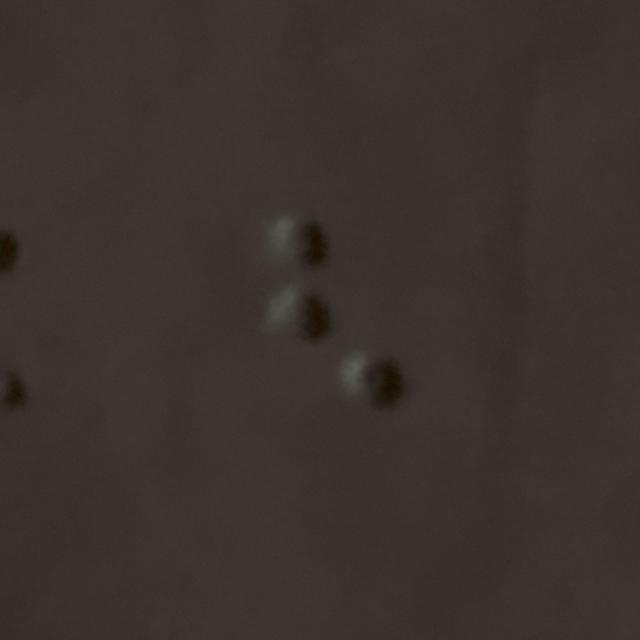one_cell_part_word_ng: (269, 211, 405, 409)
